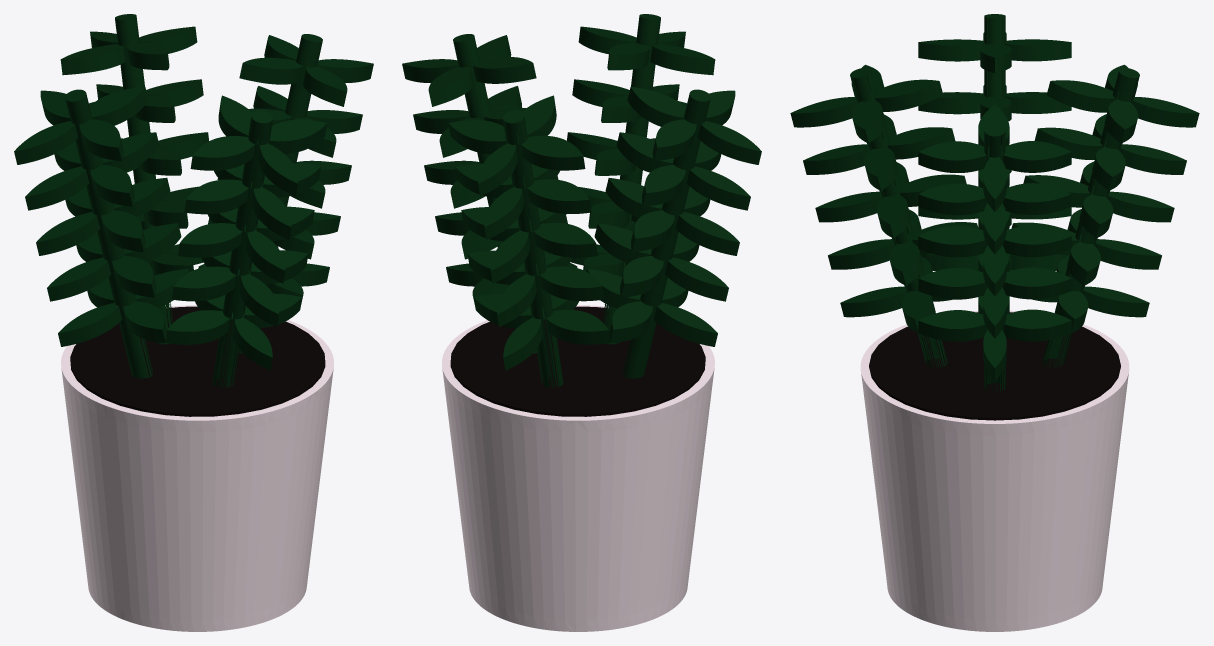
Rendered from plante.obj.
3 renders of one model, left to right at view 1: azimuth 30°, elevation 25°; view 2: azimuth 150°, elevation 25°; view 3: azimuth 270°, elevation 25°, orthographic.
Parts seen in each view (by area): view 1: node0_Solid, node0.001_Solid.002, Cylinder; view 2: node0_Solid, node0.001_Solid.002, Cylinder; view 3: node0_Solid, node0.001_Solid.002, Cylinder.
Boxes of the visible parts, left/top/right/bottom form: node0_Solid: left=14, top=14, right=373, bottom=387; node0.001_Solid.002: left=61, top=305, right=333, bottom=631; Cylinder: left=70, top=306, right=325, bottom=416; node0_Solid: left=402, top=14, right=761, bottom=387; node0.001_Solid.002: left=442, top=305, right=714, bottom=631; Cylinder: left=450, top=306, right=705, bottom=416; node0_Solid: left=790, top=14, right=1199, bottom=391; node0.001_Solid.002: left=860, top=310, right=1129, bottom=631; Cylinder: left=869, top=312, right=1120, bottom=420.
Bounding box in the file's own units: 0.0761 × 0.1055 × 0.0761.
